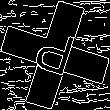P_S: (29, 25, 81, 85)
